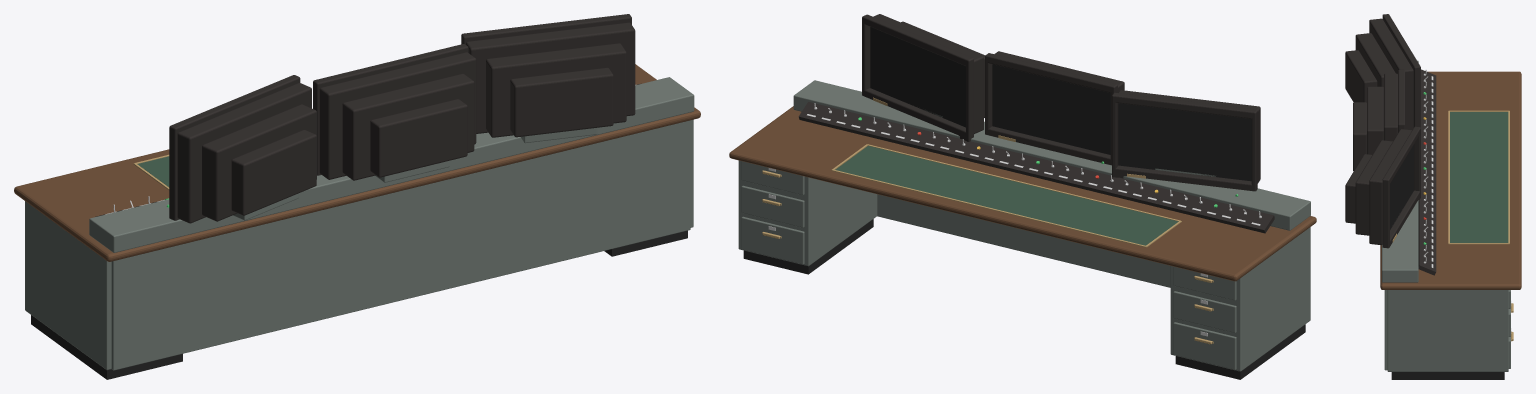
File: cc_console.glb
3 renders of one model, left to right at view 1: azimuth 30°, elevation 25°; view 2: azimuth 150°, elevation 25°; view 3: azimuth 270°, elevation 25°, orthographic. The views are drawn at different scales.
Parts seen in each view (by area): view 1: cc_steel, cc_bakelite, cc_walnut, cc_black; view 2: cc_steel, cc_black, cc_bakelite, cc_walnut, cc_baize, cc_brass, cc_chrome; view 3: cc_bakelite, cc_steel, cc_walnut, cc_baize, cc_black, cc_brass, cc_chrome.
Part boxes in pixels (x1,y1,x2,y2): cc_steel: (25,77,694,370); cc_bakelite: (95,14,641,223); cc_walnut: (14,64,700,261); cc_black: (31,230,687,379); cc_steel: (738,80,1310,371); cc_black: (743,27,1305,379); cc_bakelite: (798,14,1274,233); cc_walnut: (729,106,1316,281); cc_baize: (835,145,1178,245); cc_brass: (762,97,1213,344); cc_chrome: (768,103,1261,336); cc_bakelite: (1345,14,1436,275); cc_steel: (1382,60,1510,371); cc_walnut: (1380,71,1521,289); cc_baize: (1450,112,1508,242); cc_black: (1390,145,1504,379); cc_brass: (1392,110,1513,341); cc_chrome: (1423,69,1511,333).
Bounding box in the file's own units: 3.6 × 1.39 × 1.25.
